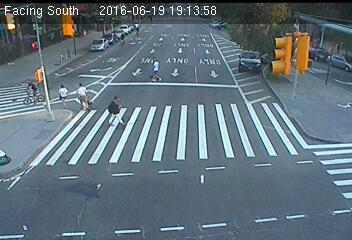neg: (219, 39, 246, 76), (250, 53, 276, 88), (278, 107, 304, 141), (323, 148, 347, 181), (21, 74, 44, 105), (252, 87, 271, 113), (263, 124, 278, 144)
pos: (100, 91, 128, 129), (70, 80, 92, 110), (147, 55, 169, 85), (52, 78, 73, 106)
